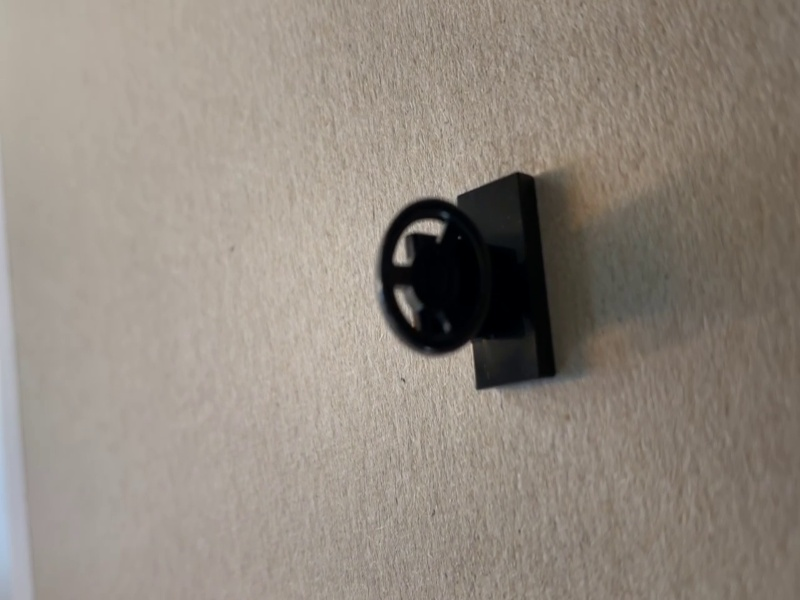steering wheel: (376, 168, 558, 392)
